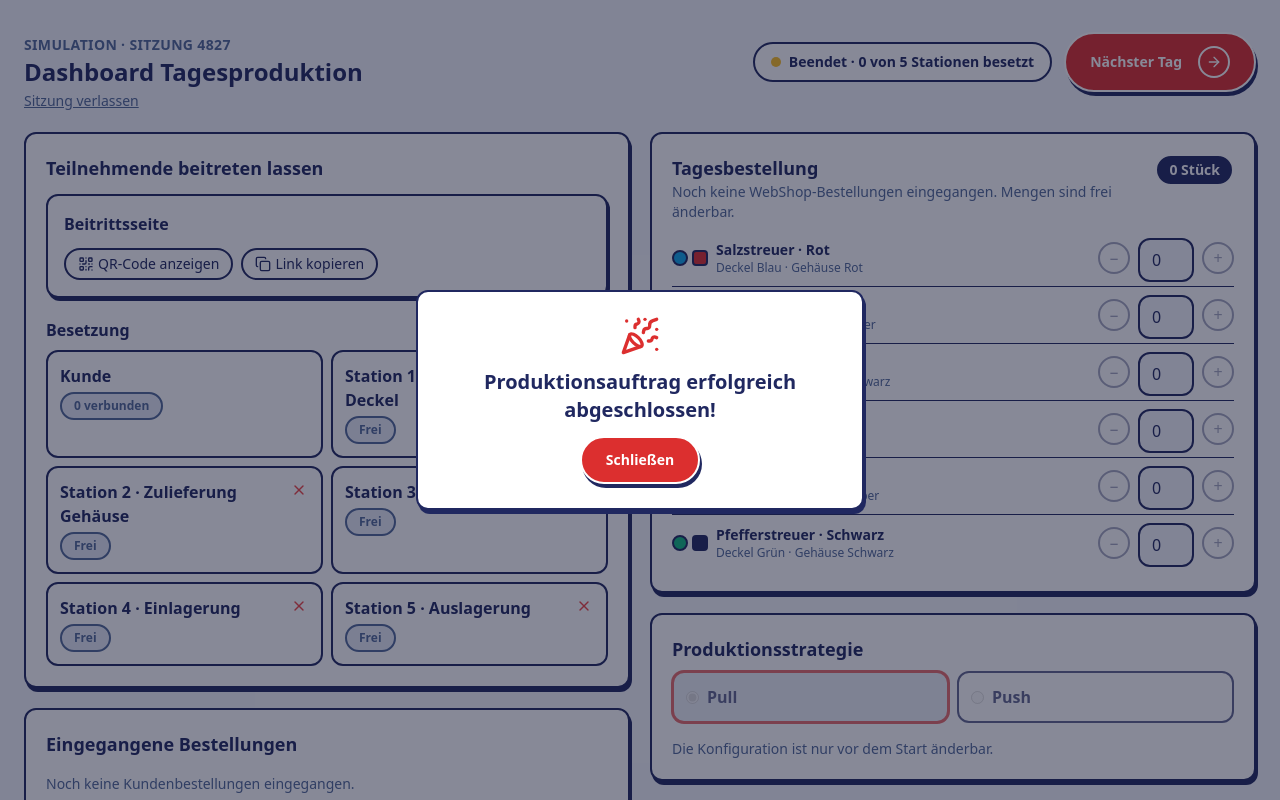
Test: SimulationDashboardPage › shows the finish popup once the day is finished and closes it with "Schließen"
Check: the heading "Dashboard Tagesproduktion" is shown, box [24, 56, 363, 88]
Check: the dialog shows "Produktionsauftrag erfolgreich abgeschlossen!", box [484, 368, 796, 423]
Click the button "Schließen".
click(640, 460)  # box [580, 436, 700, 484]
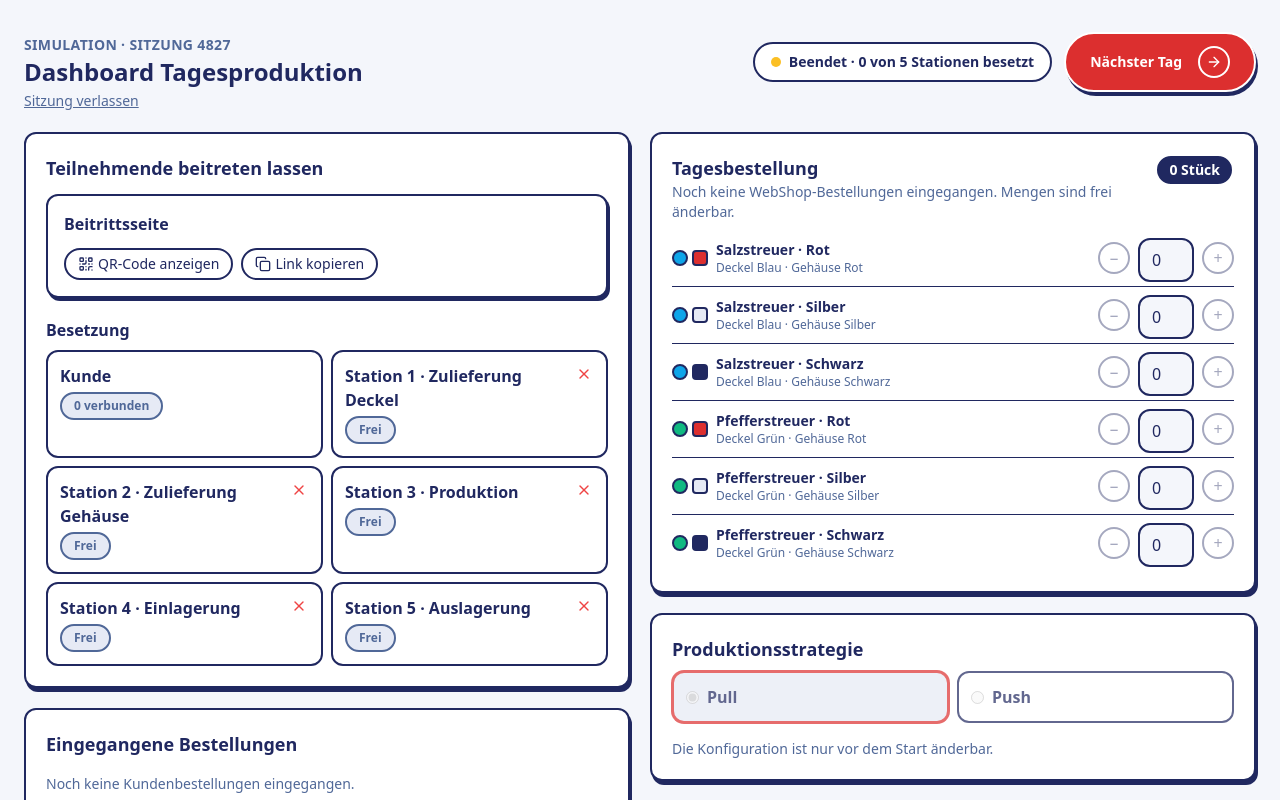
Check: the button "Nächster Tag" is shown, box [1064, 32, 1256, 92]
Check: the dialog is gone
